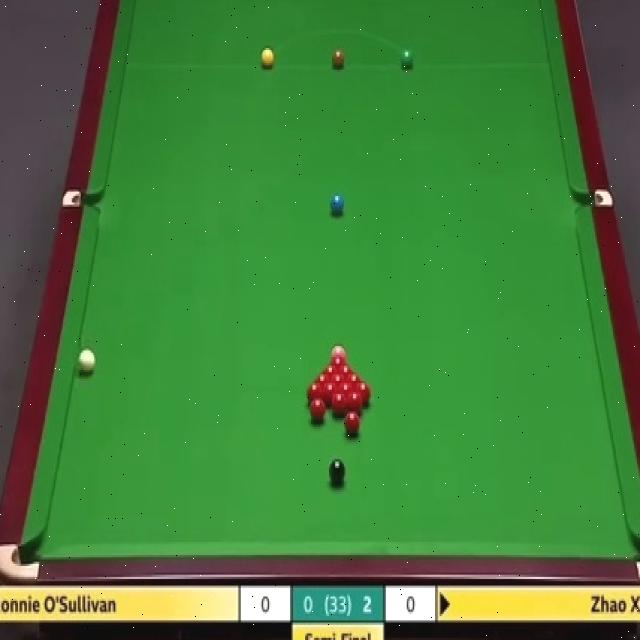black-ball: (328, 459, 347, 486)
blue-ball: (330, 191, 344, 219)
brown-ball: (331, 48, 345, 68)
green-ball: (400, 48, 414, 68)
pink-ball: (330, 344, 347, 360)
red-ball: (344, 410, 361, 438), (347, 390, 363, 415), (323, 382, 339, 406), (310, 399, 325, 421), (333, 394, 347, 417), (356, 383, 370, 406), (331, 374, 347, 394), (337, 363, 352, 384), (306, 382, 321, 402), (323, 364, 338, 382), (346, 372, 360, 391), (329, 357, 346, 371), (316, 374, 330, 389)
white-ball: (79, 348, 97, 373)
yellow-ball: (260, 48, 275, 68)
